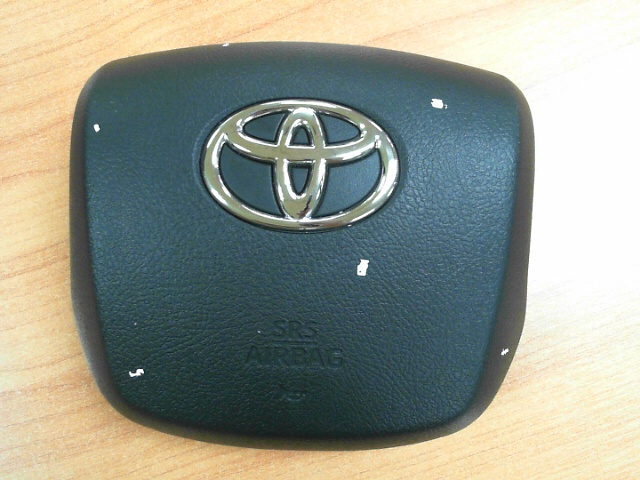Airbag: (355, 259, 370, 277), (431, 99, 447, 110), (128, 369, 144, 377), (93, 124, 101, 133), (500, 348, 509, 355), (222, 44, 230, 46)
